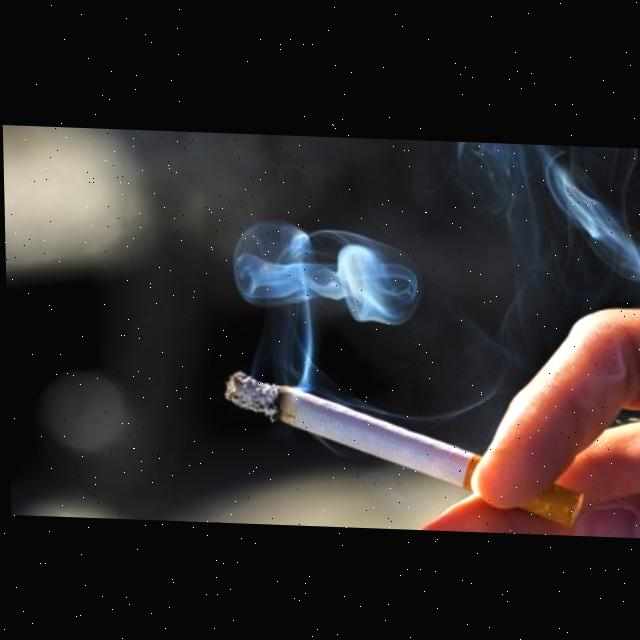cigarette: (223, 368, 582, 527)
